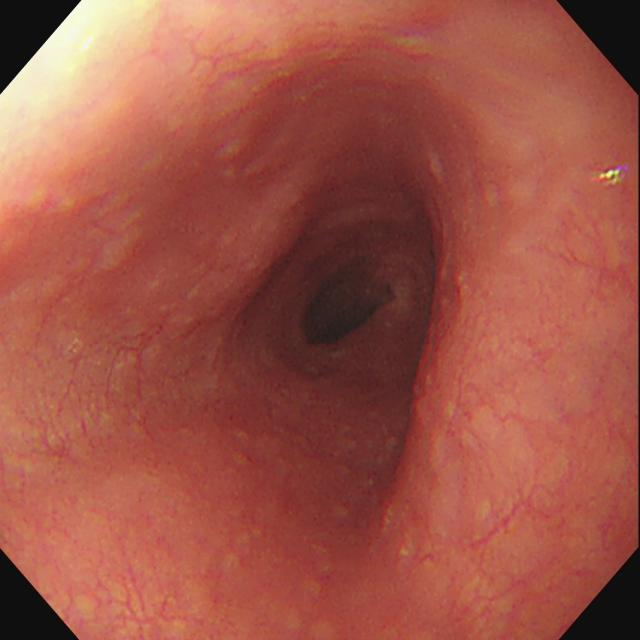E: (304, 276, 392, 342)
U: (594, 164, 628, 188)
